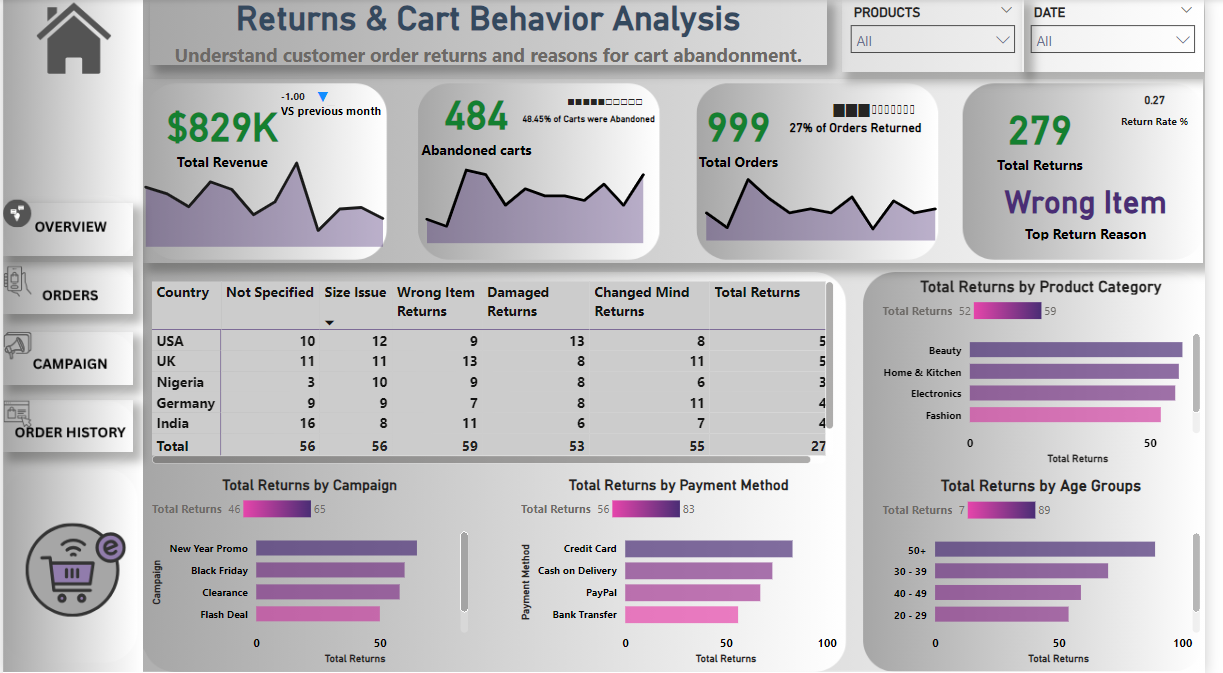

Layout of this report page (visuals, bound fields, positions):
{"tool":"powerbi","page":{"name":"Order","canvas":[1280,720],"ordinal":1},"visuals":[{"type":"shape","box":[148.6,84.7,1129.6,196.5],"z":0},{"type":"card","title":"TOTAL REVENUE","fields":{"Values":["Fact.Total Revenue"]},"box":[138.3,78.3,188.3,126.7],"z":1000},{"type":"textbox","box":[148.3,0,1131.7,78.3],"z":2000},{"type":"lineChart","title":"Total Revenue by Month","fields":{"Y":["Fact.Overall Revenue"],"Category":["DimDate.Month Name"]},"box":[137.8,148.9,281.1,120],"z":3000},{"type":"multiRowCard","fields":{"Values":["DimLocation.Revenue MoM % Change"]},"box":[290,91.1,128.9,62.2],"z":4000},{"type":"card","title":"TOTAL REVENUE","fields":{"Values":["Fact.Total Orders"]},"box":[688.6,78.3,188.5,126.2],"z":5000},{"type":"card","title":"TOTAL REVENUE","fields":{"Values":["Fact.Abandoned carts"]},"box":[403.3,65.6,202.2,126.7],"z":6000},{"type":"card","title":"TOTAL REVENUE","fields":{"Values":["Conversion Funnel Table.Total Returns"]},"box":[1038.5,91.1,131,107],"z":7000},{"type":"card","fields":{"Values":["DimLocation.Cart Abandonment Icons"]},"box":[567.2,91.1,147,38.3],"z":8000},{"type":"multiRowCard","fields":{"Values":["DimLocation.Cart Abandonment Subtext"]},"box":[547.8,116.7,153.3,32.2],"z":9000},{"type":"lineChart","title":"Total Revenue by Month","fields":{"Y":["Fact.Total Orders"],"Category":["DimDate.Month Name"]},"box":[734.9,156.6,271.6,105.4],"z":10000},{"type":"lineChart","title":"Total Revenue by Month","fields":{"Category":["DimDate.Month Name"],"Y":["Fact.Abandoned carts"]},"box":[437.8,145.4,257.2,119.8],"z":11000},{"type":"card","fields":{"Values":["Conversion Funnel Table.Return Rate Progress"]},"box":[824.4,94.3,206.1,49.5],"z":12000},{"type":"multiRowCard","fields":{"Values":["Conversion Funnel Table.Return Description"]},"box":[832.4,124.6,174.1,41.5],"z":13000},{"type":"slicer","fields":{"Values":["DimProductCategory.Product Category"]},"box":[893.1,0,194.9,78.3],"z":14000},{"type":"slicer","fields":{"Values":["DimDate.Year","DimDate.Month "]},"box":[1084.8,0,194.9,78.3],"z":15000},{"type":"textbox","title":"Returns & Cart Behavior Analysis","box":[156.6,0,720.5,70.3],"z":16000},{"type":"actionButton","box":[0,0,140,92],"z":17000},{"type":"actionButton","box":[0,218,138,56],"z":18000},{"type":"actionButton","box":[0,280,138,56],"z":19000},{"type":"actionButton","box":[0,354,138,56],"z":20000},{"type":"actionButton","box":[0,426,138,56],"z":21000},{"type":"multiRowCard","fields":{"Values":["DimLocation.Revenue Trend Arrow"]},"box":[327.8,91.1,31.1,26.7],"z":22000},{"type":"card","fields":{"Values":["Conversion Funnel Table.Return Rate %"]},"box":[1177.5,86.3,97.5,59.1],"z":23000},{"type":"pivotTable","fields":{"Rows":["DimLocation.Country"],"Values":["Conversion Funnel Table.Not Specified","Conversion Funnel Table.Size Issue","Conversion Funnel Table.Wrong Item Returns","Conversion Funnel Table.Damaged Returns","Conversion Funnel Table.Change Mind Returns","Conversion Funnel Table.Total Returns"]},"box":[153.4,295.6,736.5,204.5],"z":24000},{"type":"barChart","fields":{"Y":["Conversion Funnel Table.Total Returns"],"Category":["DimPaymentMethod.Payment Method"]},"box":[546.4,508.1,346.7,204.5],"z":25000},{"type":"barChart","fields":{"Y":["Conversion Funnel Table.Total Returns"],"Category":["DimCustomer.Age Groups"]},"box":[931.4,508.1,348.3,204.5],"z":26000},{"type":"card","title":"TOTAL REVENUE","fields":{"Values":["Fact.Top Return Reason"]},"box":[1030.5,183.7,244.4,78.3],"z":27000},{"type":"barChart","fields":{"Y":["Conversion Funnel Table.Total Returns"],"Category":["DimProductCategory.Product Category"]},"box":[931.4,295.6,348.3,204.5],"z":28000},{"type":"barChart","fields":{"Y":["Conversion Funnel Table.Total Returns"],"Category":["DimCampaign.Campaign"]},"box":[153.4,508.1,346.7,204.5],"z":29000}]}

Visuals, with their boxes in screenshot pixels (x1, y1, x2, y2), scaled from the page's 1280x720 canvas onto the 1223x673 screenshot:
shape: bbox(142, 79, 1221, 263)
"TOTAL REVENUE" card: bbox(132, 73, 312, 192)
textbox: bbox(142, 0, 1222, 73)
"Total Revenue by Month" lineChart: bbox(132, 139, 400, 251)
multiRowCard - DimLocation.Revenue MoM % Change: bbox(277, 85, 400, 143)
"TOTAL REVENUE" card: bbox(658, 73, 838, 191)
"TOTAL REVENUE" card: bbox(385, 61, 579, 180)
"TOTAL REVENUE" card: bbox(992, 85, 1117, 185)
card - DimLocation.Cart Abandonment Icons: bbox(542, 85, 682, 121)
multiRowCard - DimLocation.Cart Abandonment Subtext: bbox(523, 109, 670, 139)
"Total Revenue by Month" lineChart: bbox(702, 146, 962, 245)
"Total Revenue by Month" lineChart: bbox(418, 136, 664, 248)
card - Conversion Funnel Table.Return Rate Progress: bbox(788, 88, 985, 134)
multiRowCard - Conversion Funnel Table.Return Description: bbox(795, 116, 962, 155)
slicer - DimProductCategory.Product Category: bbox(853, 0, 1040, 73)
slicer - DimDate.Year x DimDate.Month : bbox(1036, 0, 1222, 73)
"Returns & Cart Behavior Analysis" textbox: bbox(150, 0, 838, 66)
actionButton: bbox(0, 0, 134, 86)
actionButton: bbox(0, 204, 132, 256)
actionButton: bbox(0, 262, 132, 314)
actionButton: bbox(0, 331, 132, 383)
actionButton: bbox(0, 398, 132, 451)
multiRowCard - DimLocation.Revenue Trend Arrow: bbox(313, 85, 343, 110)
card - Conversion Funnel Table.Return Rate %: bbox(1125, 81, 1218, 136)
pivotTable - DimLocation.Country x Conversion Funnel Table.Not Specified: bbox(147, 276, 850, 467)
barChart - Conversion Funnel Table.Total Returns x DimPaymentMethod.Payment Method: bbox(522, 475, 853, 666)
barChart - Conversion Funnel Table.Total Returns x DimCustomer.Age Groups: bbox(890, 475, 1222, 666)
"TOTAL REVENUE" card: bbox(985, 172, 1218, 245)
barChart - Conversion Funnel Table.Total Returns x DimProductCategory.Product Category: bbox(890, 276, 1222, 467)
barChart - Conversion Funnel Table.Total Returns x DimCampaign.Campaign: bbox(147, 475, 478, 666)
